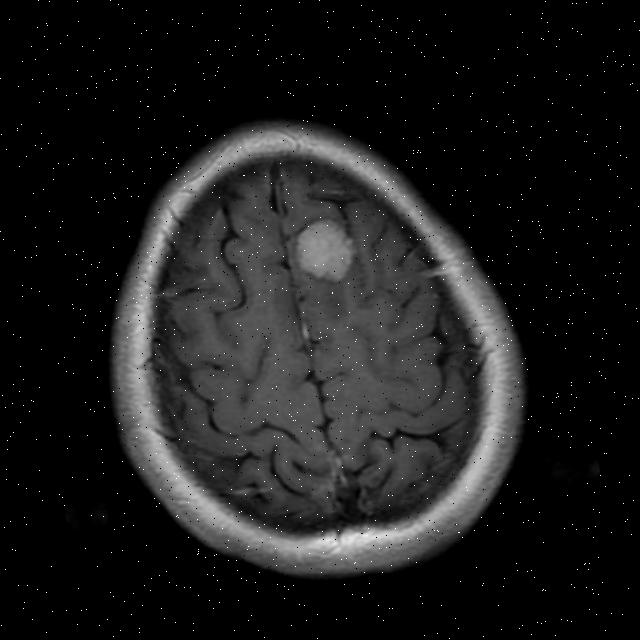Meningioma: (291, 212, 361, 288)
